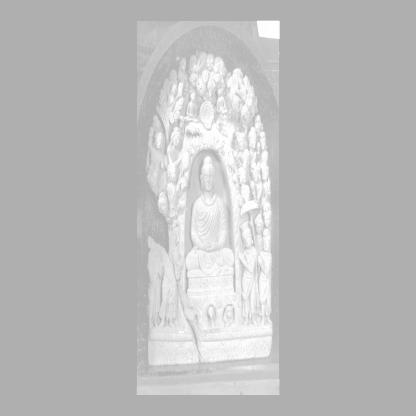buddha-sitting: (185, 156, 234, 276)
